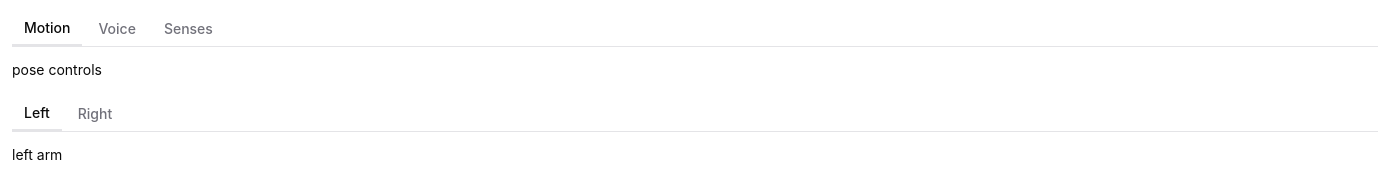
tab_group › keeps two id-less tab groups independent
The width and height of the screenshot is (1378, 180).
Click the tab "Right" at (95, 114), box [66,97,124,131]
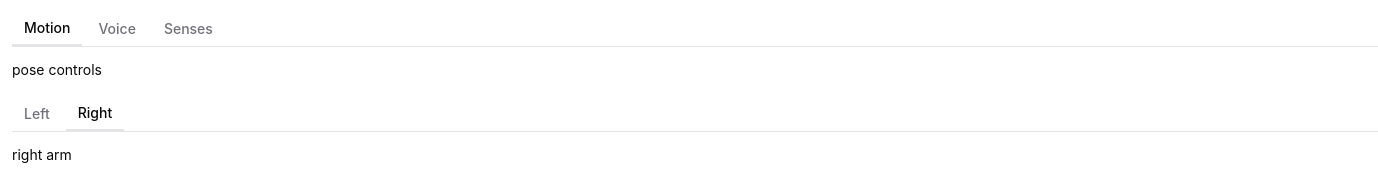
Check: the text "pose controls" is shown, box [12,61,102,78]
Check: the text "right arm" is shown, box [12,146,72,163]
